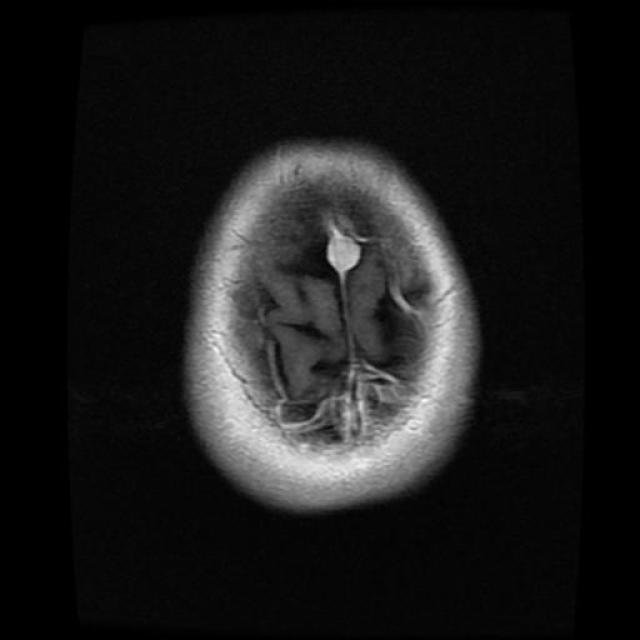meningioma: (328, 235, 361, 279)
